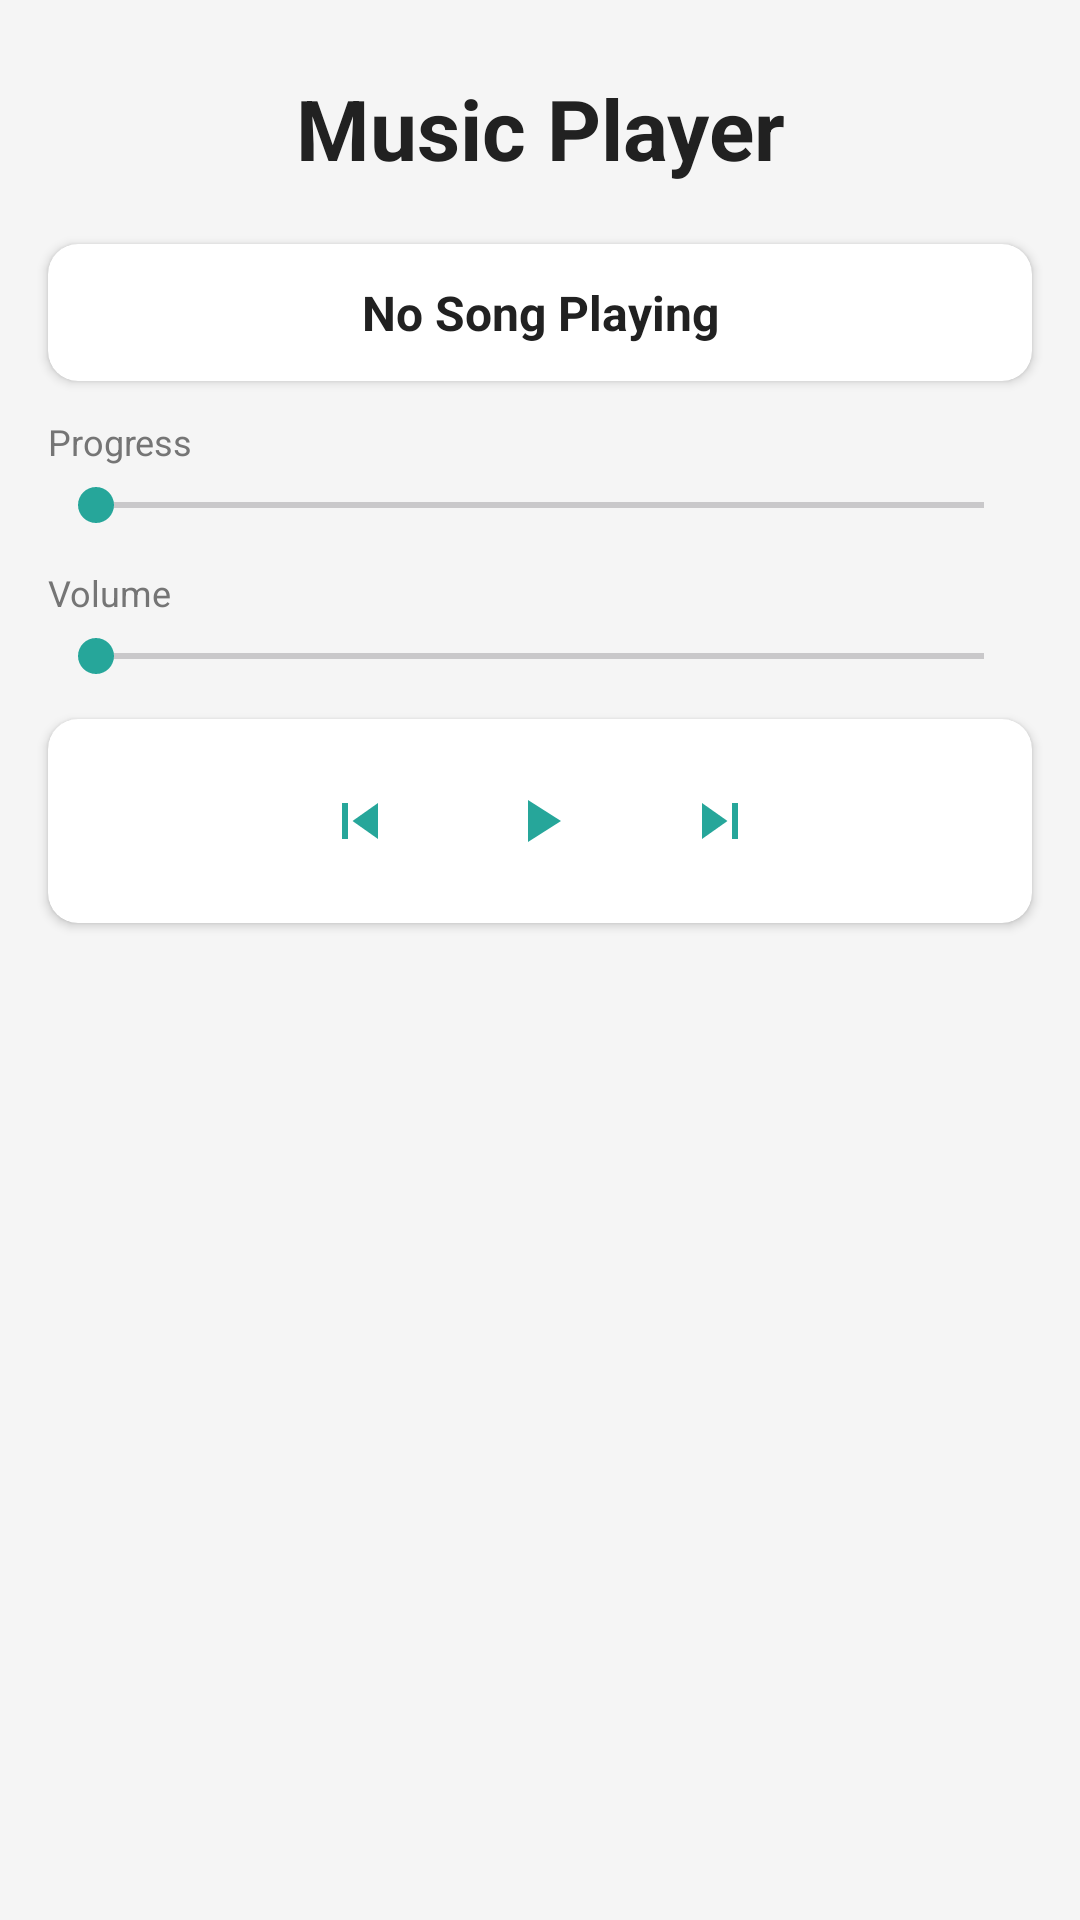

Icons on this 1080*1920 Android screen, each with its box as box=[x1, y1, x2, y2]:
Next Song: box=[702, 803, 738, 839]
Play/Pause: box=[528, 800, 561, 842]
Previous Song: box=[342, 803, 378, 839]
